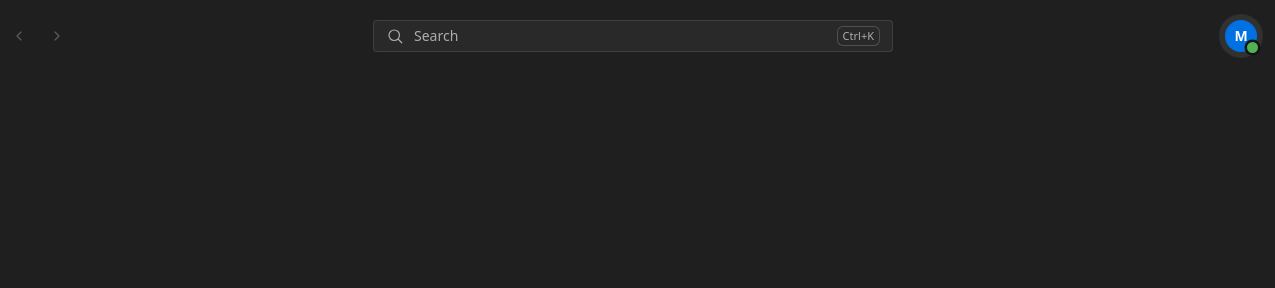
opens a result by click and clears the search
The image size is (1275, 288).
Type "alpha" into the field labelled "Search". click: (620, 36)
box: top-left (414, 26), bottom-right (827, 46)
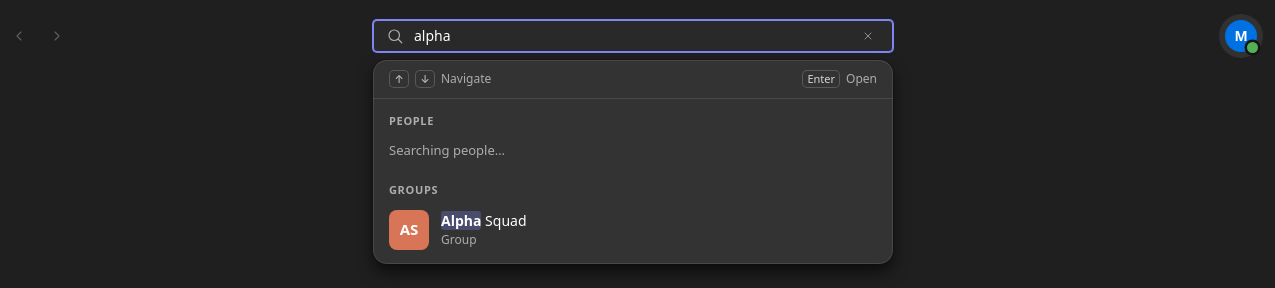
Click the text "Squad". click: click(484, 221)
box: top-left (441, 211), bottom-right (526, 231)
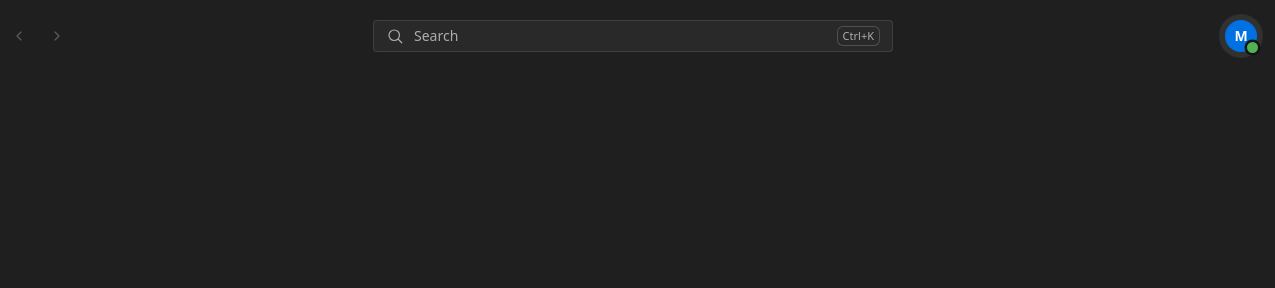
Expected: the field labelled "Search" is empty, top-left (414, 26), bottom-right (827, 46)
Expected: the text labelled "Groups" is gone
